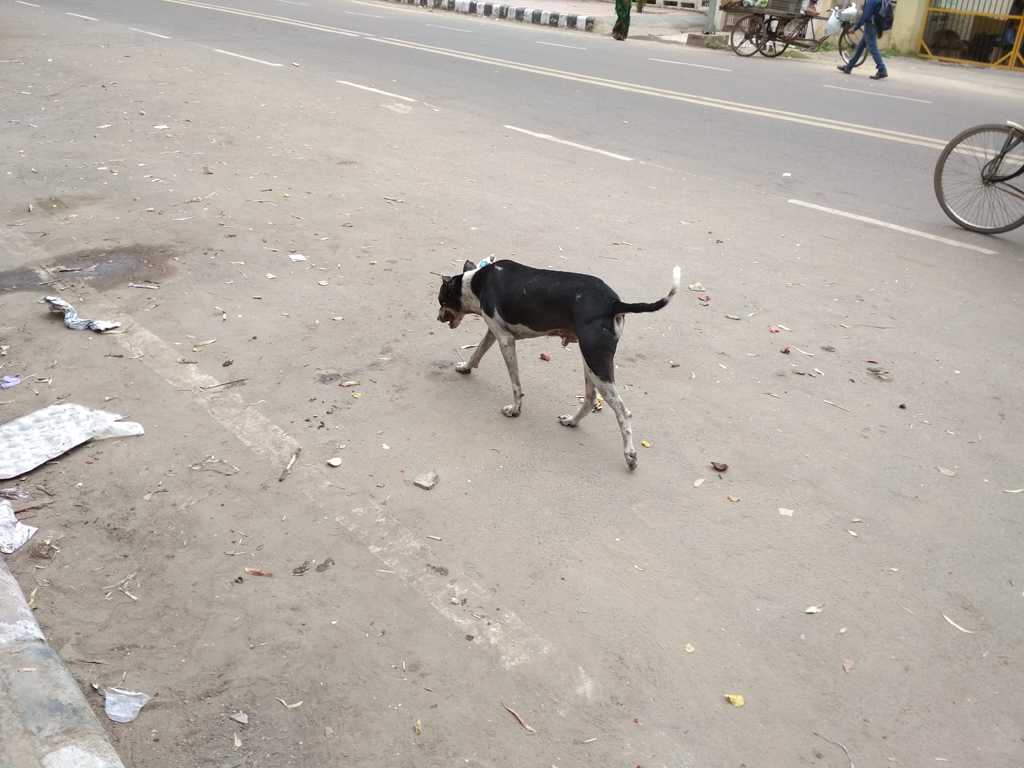dog: (436, 259, 683, 472)
